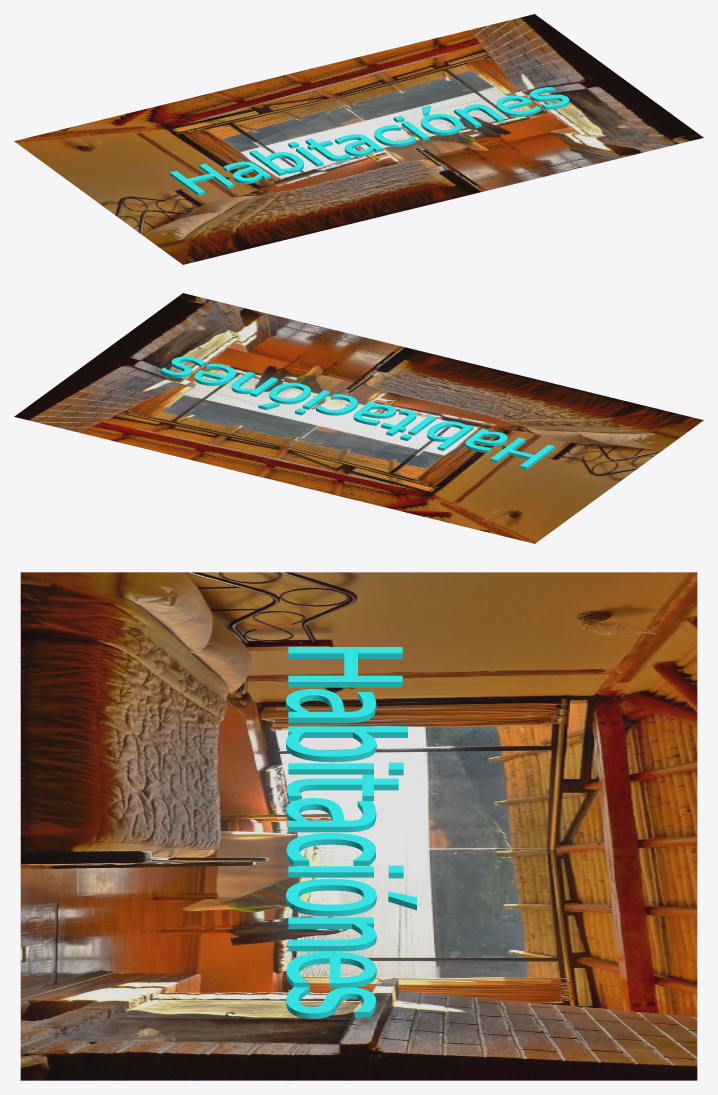
The model's file is hosteria.fbx.
3 views of the same model, one above another, from view 1: azimuth 30°, elevation 25°; view 2: azimuth 150°, elevation 25°; view 3: azimuth 270°, elevation 25° (orthographic). The views are drawn at different scales.
Parts seen in each view (by area): view 1: Model, Habitaci_nes1; view 2: Model, Habitaci_nes1; view 3: Model, Habitaci_nes1.
Part boxes in pixels (x1=…): Model: x1=14, y1=14, x2=703, y2=264; Habitaci_nes1: x1=169, y1=87, x2=569, y2=195; Model: x1=14, y1=293, x2=703, y2=543; Habitaci_nes1: x1=160, y1=356, x2=554, y2=469; Model: x1=20, y1=572, x2=697, y2=1080; Habitaci_nes1: x1=286, y1=647, x2=416, y2=1018.
Size of the model in its own units: 6 by 0.03 by 3.37.
